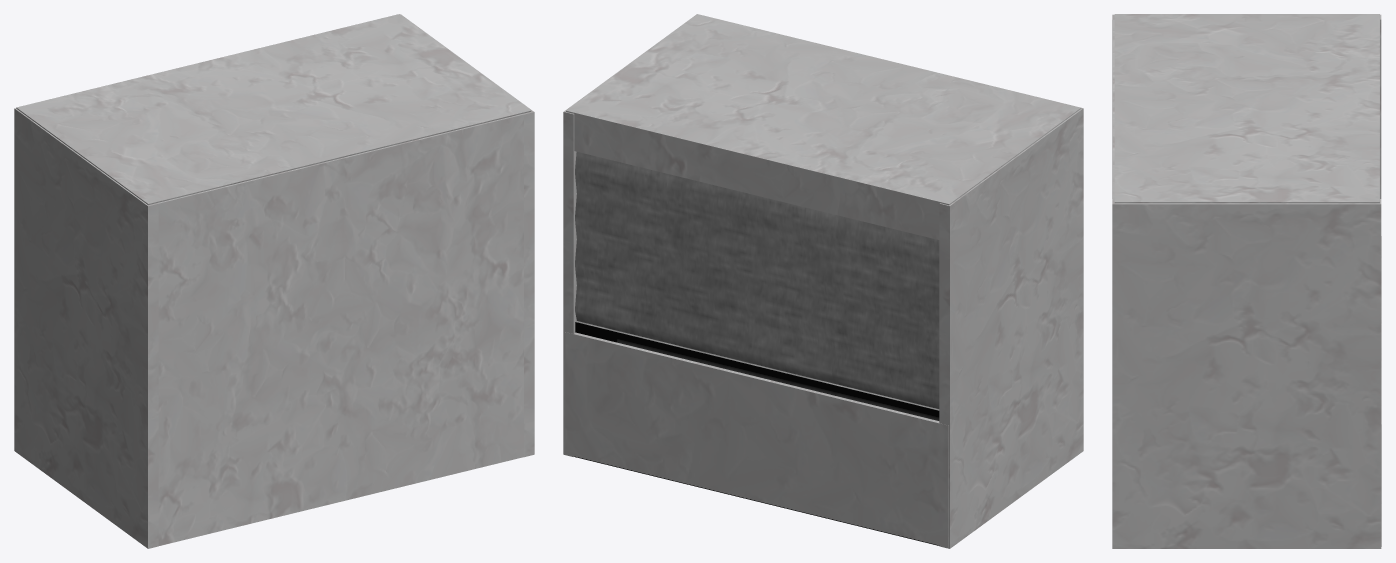
Rendered from shop4.fbx.
3 renders of one model, left to right at view 1: azimuth 30°, elevation 25°; view 2: azimuth 150°, elevation 25°; view 3: azimuth 270°, elevation 25°, orthographic.
Visible parts, largest first — view 1: pCube33; view 2: pCube33; view 3: pCube33.
Boxes of the visible parts, box(x1,y1,x2,y2) form: pCube33: box(14, 14, 534, 548); pCube33: box(563, 14, 1083, 548); pCube33: box(1112, 14, 1381, 548).
Size of the model in its own units: 190 by 161 by 114.
1 material, 1 textured.
